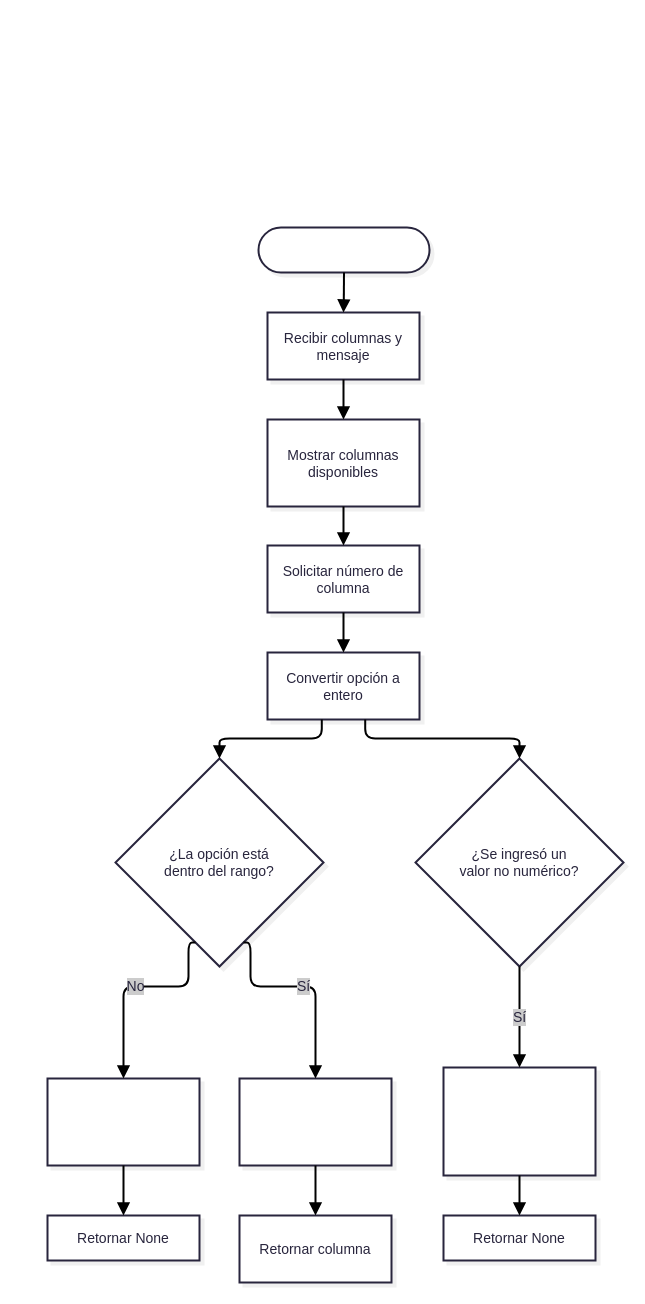
Some shapes in this 645 by 1304 pixel diagram are drawn without their labels. The shapes that lost their labels are listed below. From the top down, each one's centre as x and y in pixels, then its label:
At (x=345, y=251): "Inicio".
At (x=125, y=1123): "Mostrar mensaje: Opción fuera de rango".
At (x=317, y=1123): "Seleccionar columna correspondiente".
At (x=521, y=1123): "Mostrar mensaje: Debe ingresar un número".
